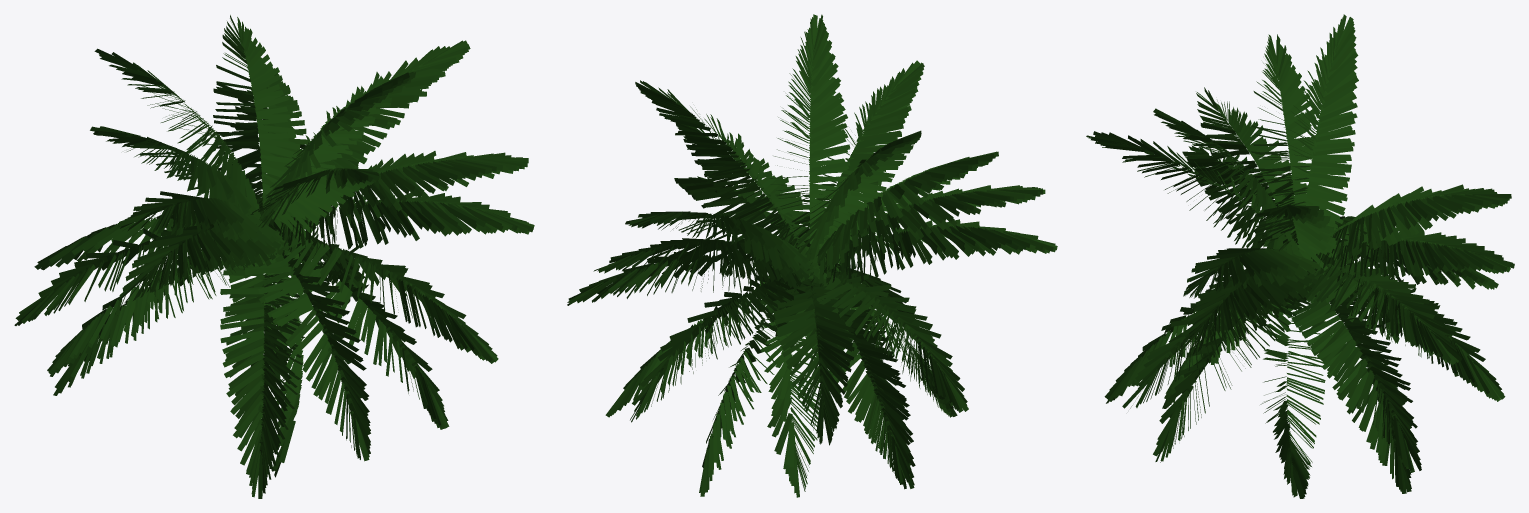
Rendered from palmera.glb.
3 views of the same model, side by side, from view 1: azimuth 30°, elevation 25°; view 2: azimuth 150°, elevation 25°; view 3: azimuth 270°, elevation 25° (orthographic). The views are drawn at different scales.
Parts seen in each view (by area): view 1: Leaves; view 2: Leaves; view 3: Leaves.
Boxes of the visible parts, x1,y1,x2,y2 form: Leaves: [14, 15, 534, 498]; Leaves: [567, 14, 1057, 497]; Leaves: [1086, 14, 1514, 498].
Size of the model in its own units: 68.51 by 70.22 by 65.7.
